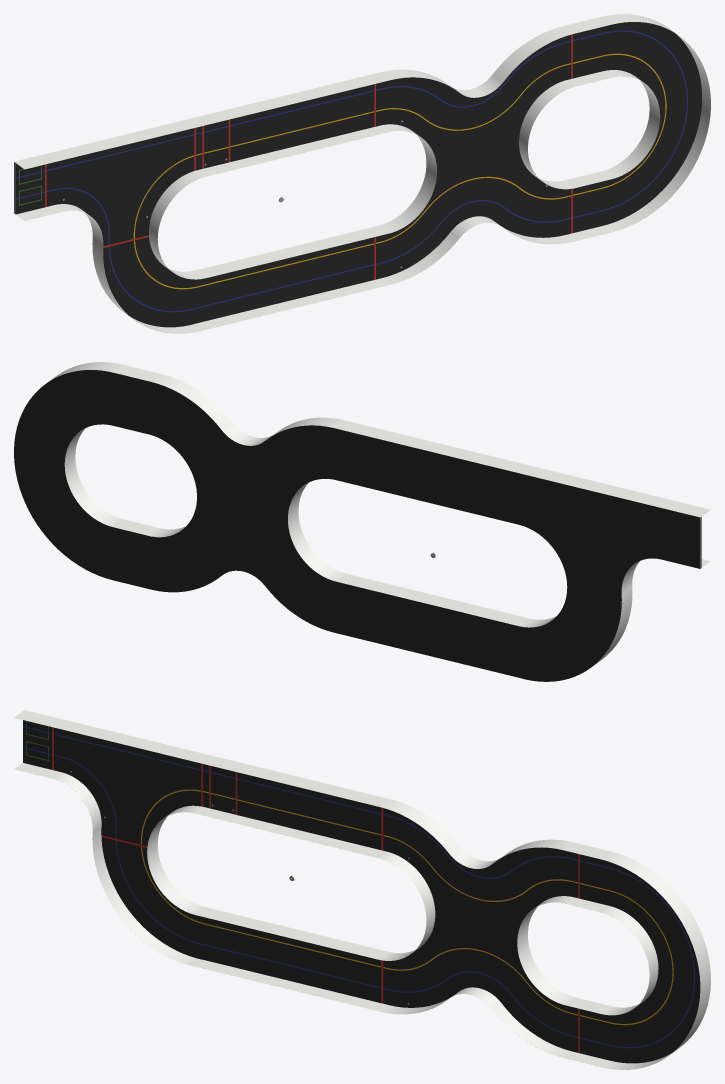
File: Four Way Long.obj
3 views of the same model, one above another, from view 1: azimuth 30°, elevation 25°; view 2: azimuth 150°, elevation 25°; view 3: azimuth 330°, elevation 25° (orthographic).
Parts seen in each view (by area): view 1: Body1; view 2: Body1; view 3: Body1.
Part boxes in pixels (x1,y1,x2,y2): Body1: (14,14,710,333); Body1: (14,362,710,681); Body1: (14,710,710,1069).
Size of the model in its own units: 11.33 by 3.28 by 0.3048.
